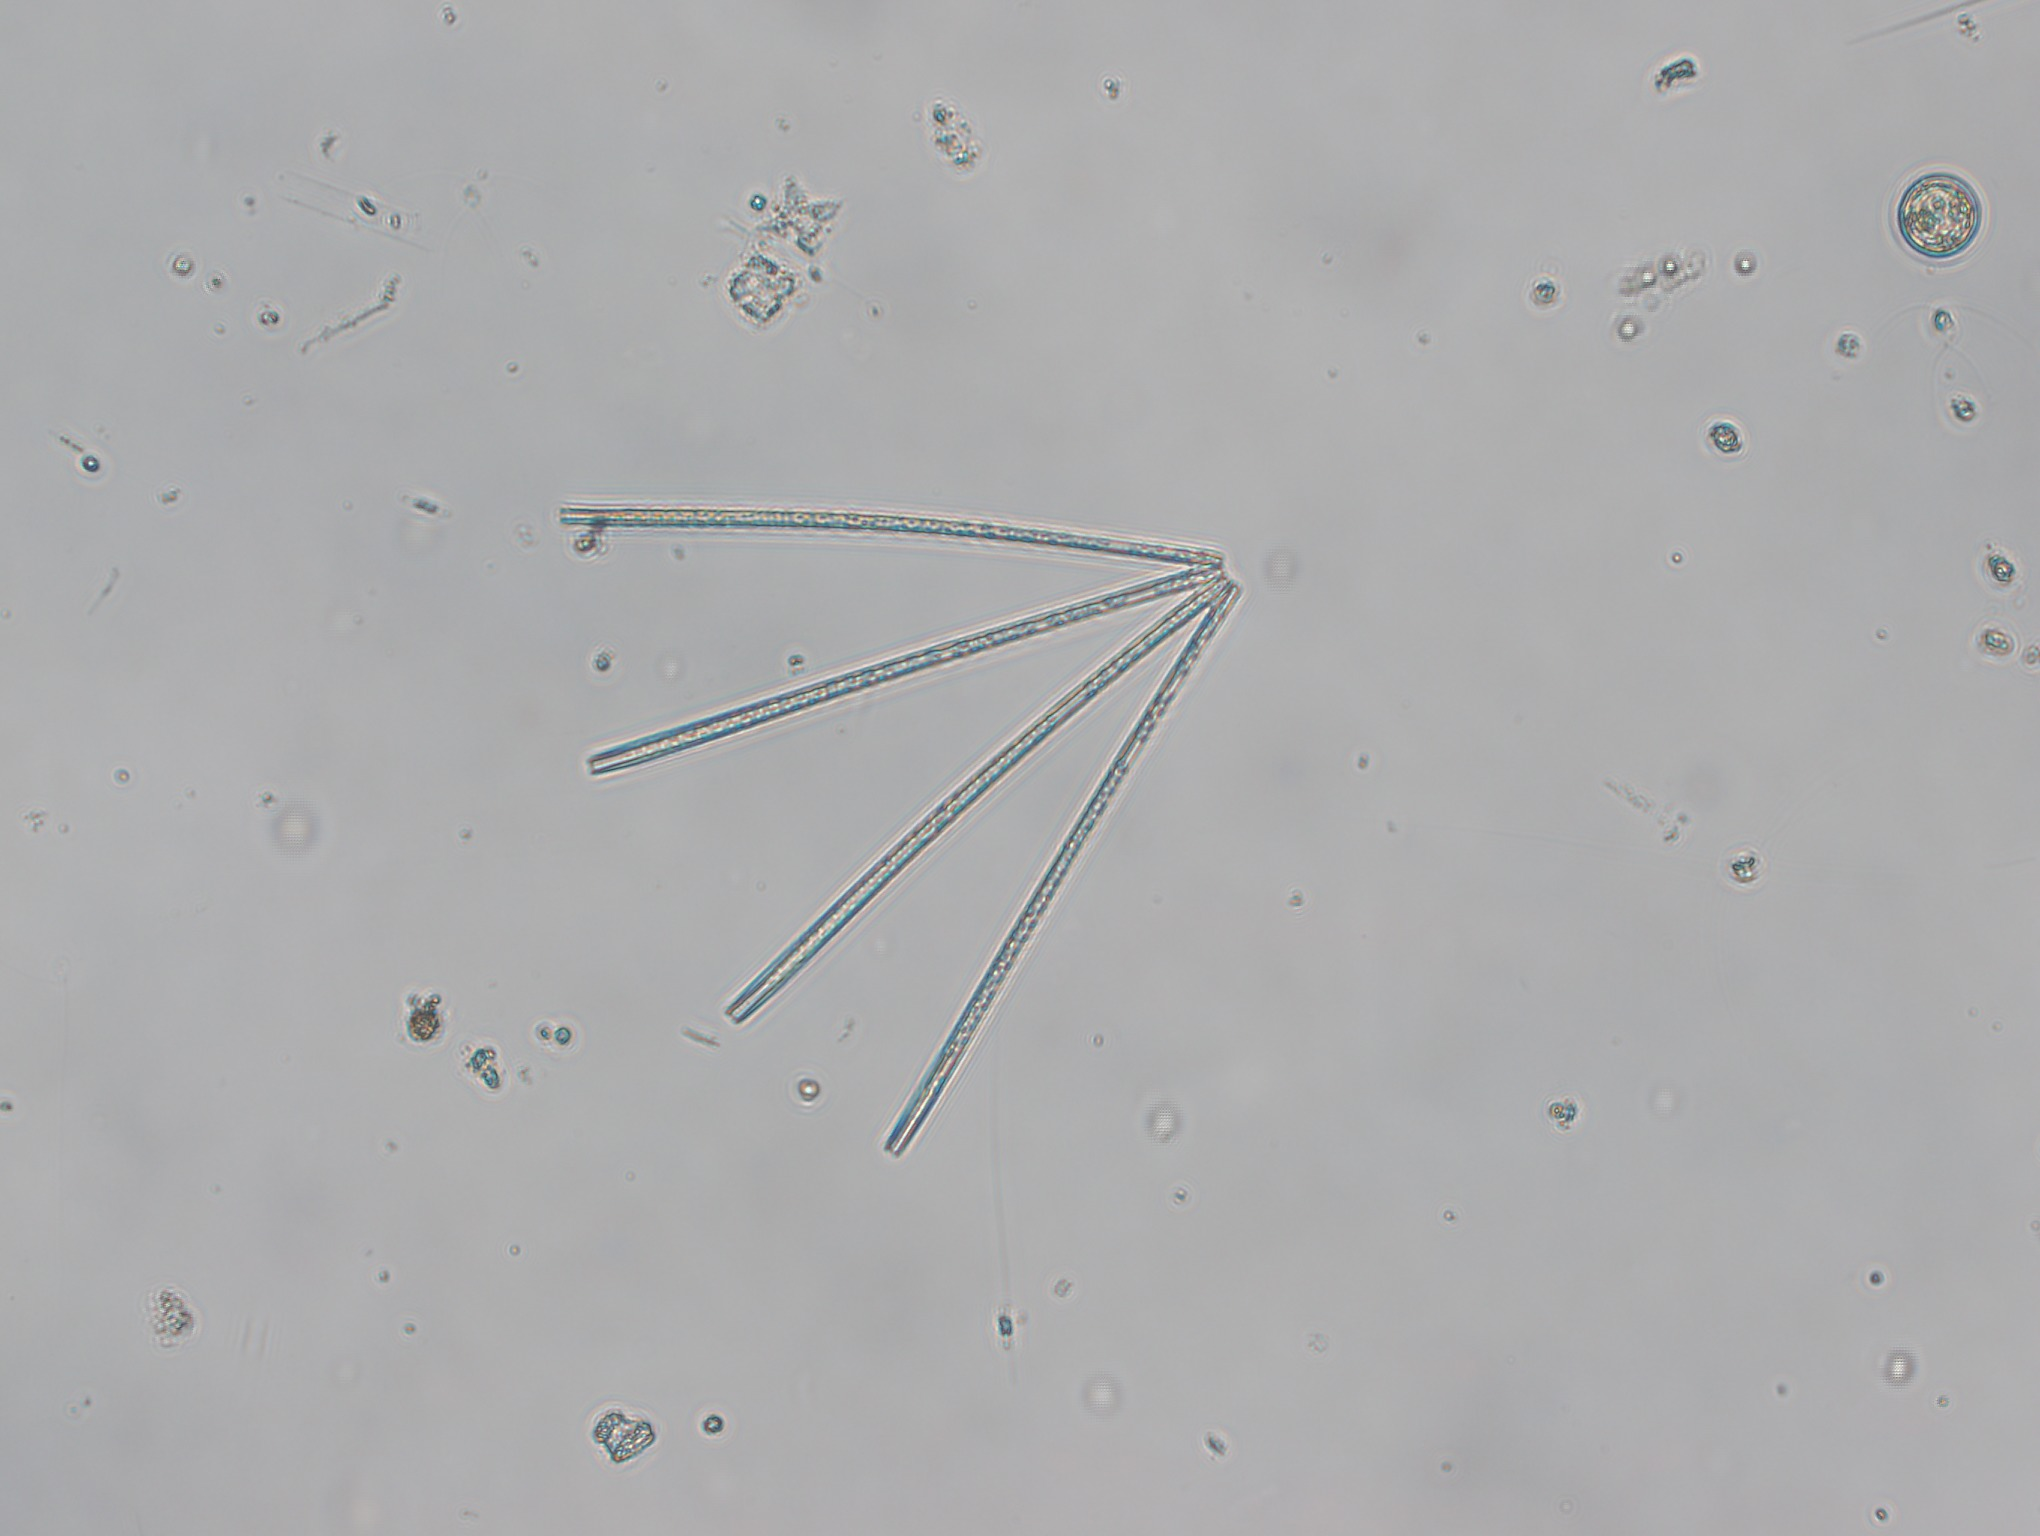chaetoceros: (711, 165, 860, 334)
thalassionema frauenfeldii: (555, 500, 1247, 1160)
